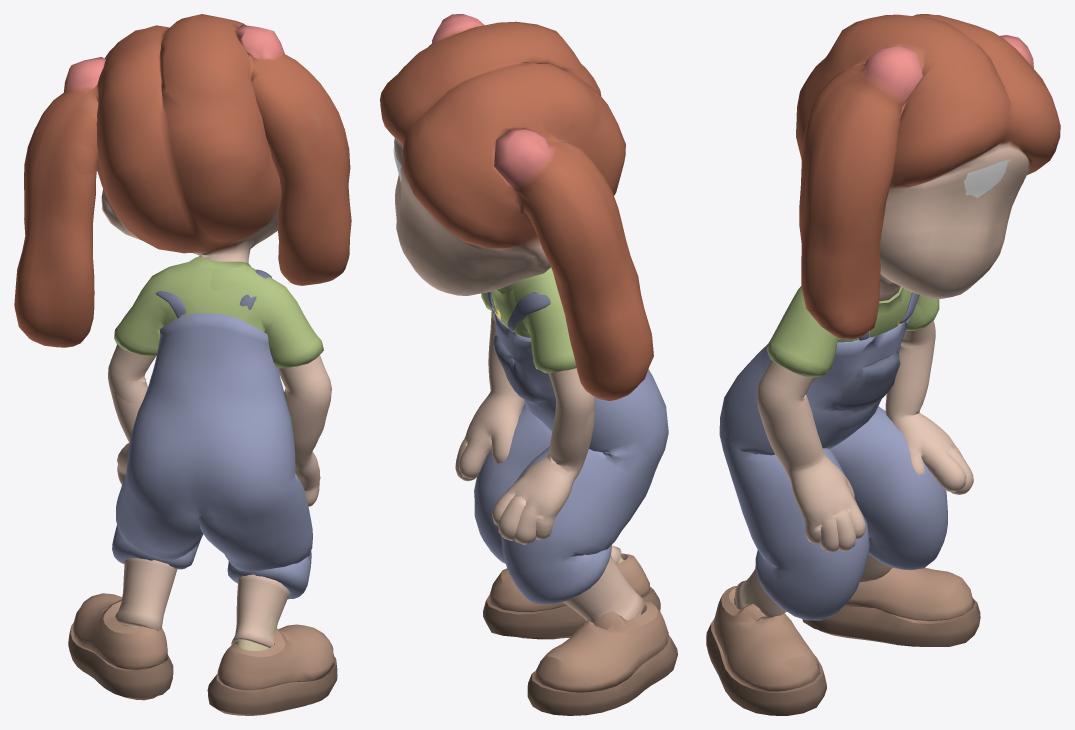
3 views of the same model, side by side, from view 1: azimuth 30°, elevation 25°; view 2: azimuth 150°, elevation 25°; view 3: azimuth 270°, elevation 25° (orthographic). The views are drawn at different scales.
Parts seen in each view (by area): view 1: Arms.054; view 2: Arms.054; view 3: Arms.054.
Part boxes in pixels (x1,y1,x2,y2): Arms.054: (14, 14, 351, 715); Arms.054: (380, 14, 677, 715); Arms.054: (706, 14, 1060, 715).
Size of the model in its own units: 66.08 by 143 by 68.93.
